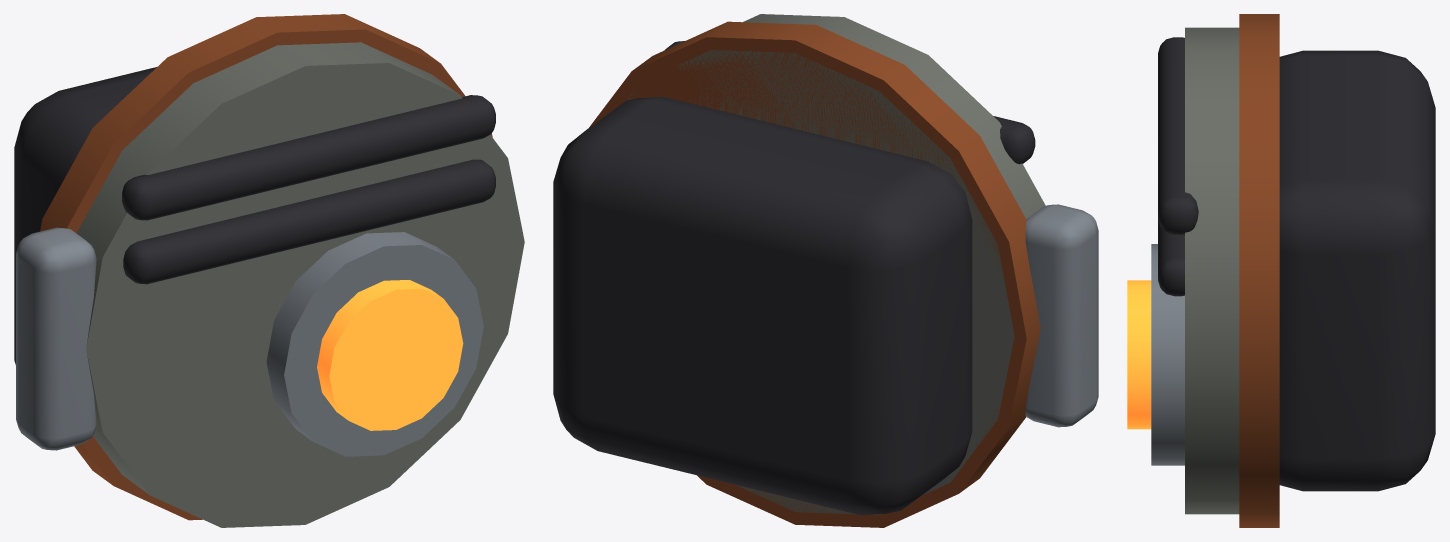
The model's file is co_furnace.glb.
The picture shows the model from 3 angles, left to right: view 1: azimuth 30°, elevation 25°; view 2: azimuth 150°, elevation 25°; view 3: azimuth 270°, elevation 25°; orthographic projection. The views are drawn at different scales.
Parts seen in each view (by area): view 1: co_furnace; view 2: co_furnace; view 3: co_furnace.
Part boxes in pixels (<box>): co_furnace: <box>14,14,524,527</box>; co_furnace: <box>553,14,1098,527</box>; co_furnace: <box>1127,14,1435,527</box>.
Size of the model in its own units: 0.1742 by 0.1634 by 0.0978.
